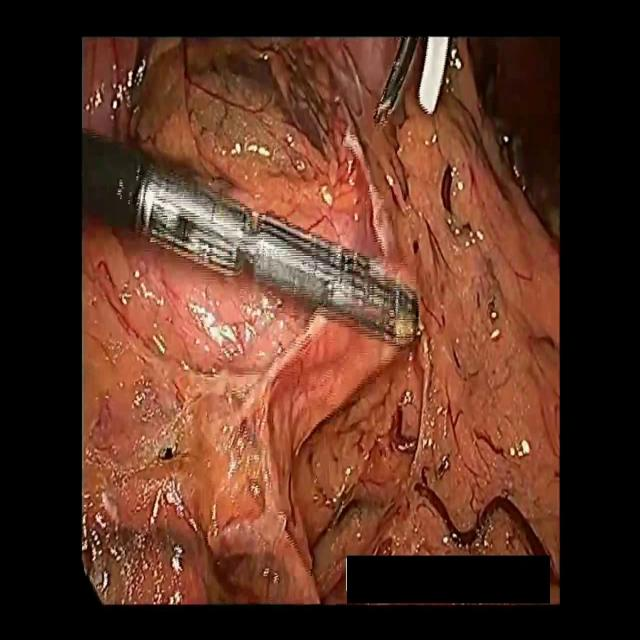surgical-area: (83, 36, 560, 604)
surgical-tool: (83, 131, 426, 353), (374, 35, 420, 121), (417, 35, 451, 114)
